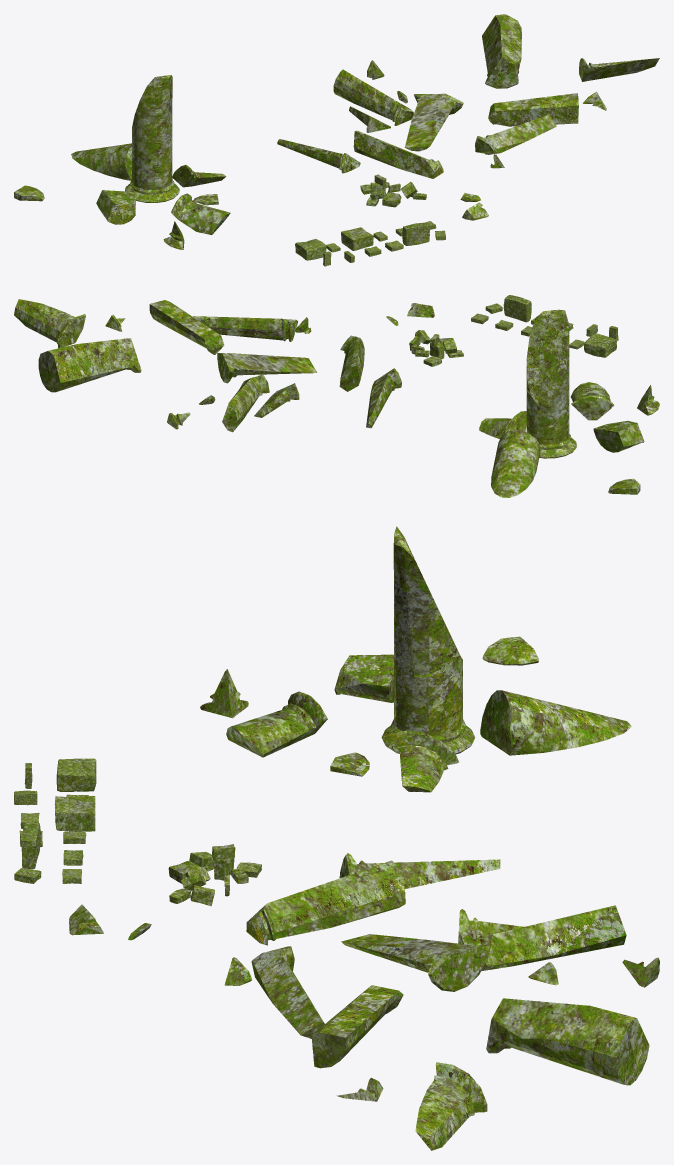
The model's file is ancient_ruins_and_rubble.glb.
3 renders of one model, top to bottom at view 1: azimuth 30°, elevation 25°; view 2: azimuth 150°, elevation 25°; view 3: azimuth 270°, elevation 25°, orthographic. The views are drawn at different scales.
Visible parts, largest first — view 1: SM_colum_debri_2_1, SM_colum_debri_1_0, SM_ruins_block_12_13, SM_ruins_block_3_4, SM_ruins_block_11_12, SM_ruins_block_1_2; view 2: SM_colum_debri_2_1, SM_colum_debri_1_0, SM_ruins_block_12_13, SM_ruins_block_11_12, SM_ruins_block_1_2; view 3: SM_colum_debri_2_1, SM_colum_debri_1_0, SM_ruins_block_12_13, SM_ruins_block_3_4, SM_ruins_block_1_2.
Part boxes in pixels (box(x1,y1,x2,y2)): SM_colum_debri_2_1: box(277, 14, 659, 220); SM_colum_debri_1_0: box(14, 75, 230, 249); SM_ruins_block_12_13: box(360, 174, 426, 207); SM_ruins_block_3_4: box(341, 227, 373, 250); SM_ruins_block_11_12: box(402, 222, 429, 245); SM_ruins_block_1_2: box(295, 239, 326, 260); SM_colum_debri_2_1: box(14, 299, 434, 432); SM_colum_debri_1_0: box(479, 309, 659, 497); SM_ruins_block_12_13: box(409, 330, 463, 366); SM_ruins_block_11_12: box(503, 295, 531, 322); SM_ruins_block_1_2: box(584, 333, 616, 357); SM_colum_debri_2_1: box(69, 853, 659, 1150); SM_colum_debri_1_0: box(200, 526, 631, 792); SM_ruins_block_12_13: box(168, 844, 261, 906); SM_ruins_block_3_4: box(55, 796, 95, 831); SM_ruins_block_1_2: box(56, 758, 96, 791).
Size of the model in its own units: 26.7 by 5.28 by 14.4.
1 material, 1 textured.
